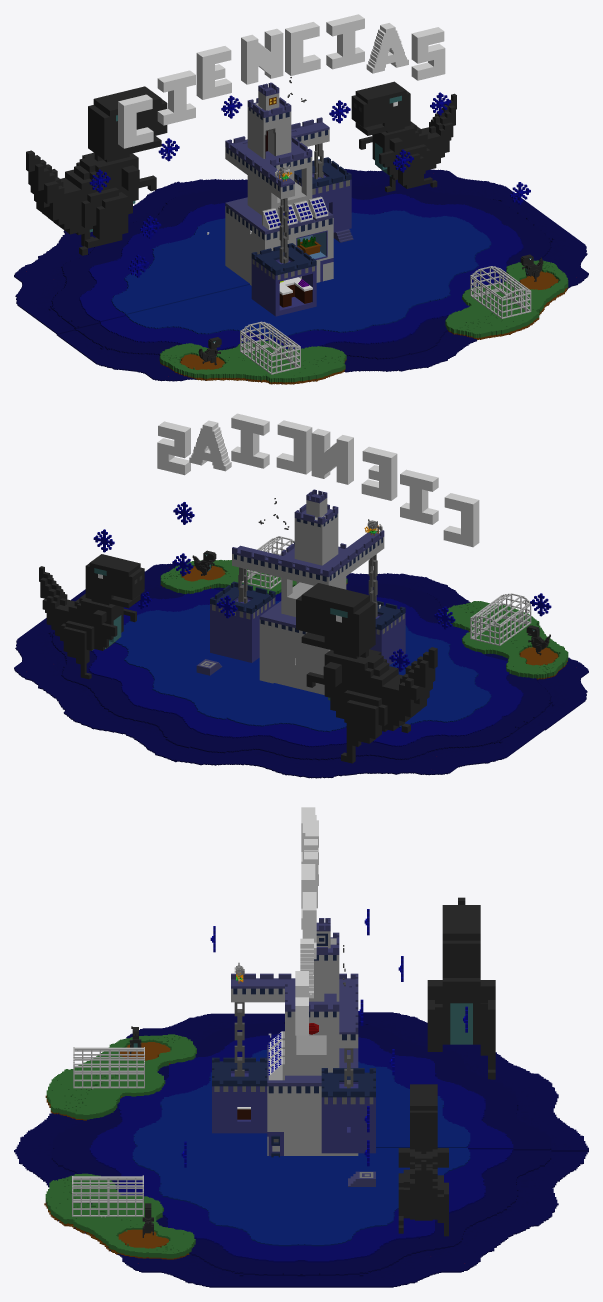
File: sciencie.glb
The picture shows the model from 3 angles, top to bottom: view 1: azimuth 30°, elevation 25°; view 2: azimuth 150°, elevation 25°; view 3: azimuth 270°, elevation 25°; orthographic projection. The views are drawn at different scales.
Parts seen in each view (by area): view 1: Untitled.007, Untitled.023, Untitled.022, Untitled.018, Untitled.019, Untitled.020, Untitled, Untitled.030, Untitled.028, Untitled.024, Untitled.029, Untitled.016 (+4 smaller); view 2: Untitled.020, Untitled.022, Untitled.023, Untitled.018, Untitled.019, Untitled, Untitled.007, Untitled.030, Untitled.028, Untitled.029, Untitled.024, Untitled.016 (+4 smaller); view 3: Untitled.007, Untitled.020, Untitled.022, Untitled.023, Untitled.018, Untitled, Untitled.019, Untitled.030, Untitled.024, Untitled.016.
Part boxes in pixels (x1,y1,x2,y2): Untitled.007: (317,215,588,367); Untitled.023: (56,283,426,384); Untitled.022: (207,77,353,316); Untitled.018: (14,182,249,334); Untitled.019: (17,181,249,332); Untitled.020: (181,169,544,263); Untitled: (26,86,167,255); Untitled.030: (351,81,456,192); Untitled.028: (241,28,283,84); Untitled.024: (411,27,445,80); Untitled.029: (196,46,231,99); Untitled.016: (326,14,364,69); Untitled.020: (14,618,272,762); Untitled.022: (196,489,405,694); Untitled.023: (389,578,588,730); Untitled.018: (176,683,545,778); Untitled.019: (173,683,542,777); Untitled: (296,583,437,763); Untitled.007: (71,536,427,643); Untitled.030: (39,554,144,679); Untitled.028: (311,428,353,484); Untitled.029: (361,446,397,500); Untitled.024: (157,421,190,475); Untitled.016: (231,413,269,468); Untitled.007: (14,1146,301,1287); Untitled.020: (301,1148,588,1287); Untitled.022: (212,918,375,1186); Untitled.023: (15,1013,284,1149); Untitled.018: (358,1012,588,1149); Untitled: (427,897,495,1079); Untitled.019: (358,1014,588,1151); Untitled.030: (398,1084,448,1236); Untitled.024: (295,971,308,1035); Untitled.016: (302,892,316,959).
Bounding box in the file's own units: 51.2 × 24.7 × 45.6.
Materials: 31 (31 with a texture image).
